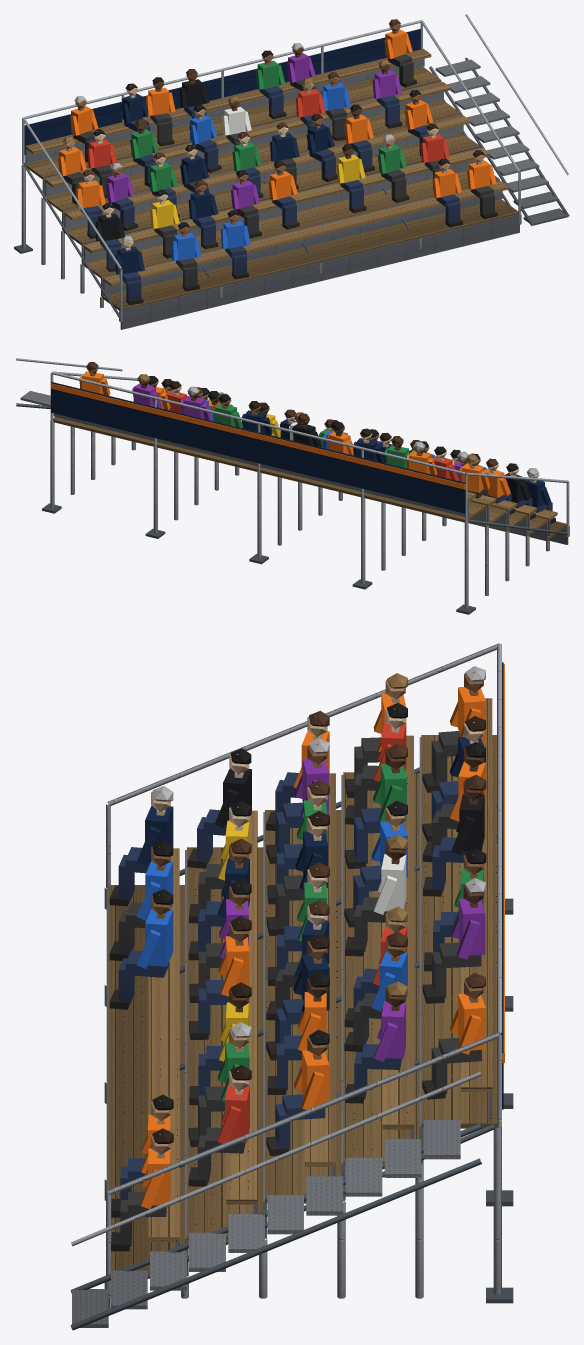
Rendered from arquibancada_com_publico.glb.
The picture shows the model from 3 angles, top to bottom: view 1: azimuth 30°, elevation 25°; view 2: azimuth 150°, elevation 25°; view 3: azimuth 270°, elevation 25°; orthographic projection. The views are drawn at different scales.
Visible parts, largest first — view 1: arquibancada_com_publico, arquibancada_com_publico_madeira; view 2: arquibancada_com_publico, arquibancada_com_publico_madeira; view 3: arquibancada_com_publico, arquibancada_com_publico_madeira.
Part boxes in pixels (x1=…): arquibancada_com_publico: x1=14, y1=14, x2=569, y2=329; arquibancada_com_publico_madeira: x1=23, y1=49, x2=518, y2=311; arquibancada_com_publico: x1=15, y1=358, x2=569, y2=614; arquibancada_com_publico_madeira: x1=53, y1=417, x2=567, y2=540; arquibancada_com_publico: x1=70, y1=643, x2=513, y2=1330; arquibancada_com_publico_madeira: x1=108, y1=698, x2=499, y2=1278.
Bounding box in the file's own units: 11.18 × 3.67 × 4.81.
Materials: 5 (4 with a texture image).
